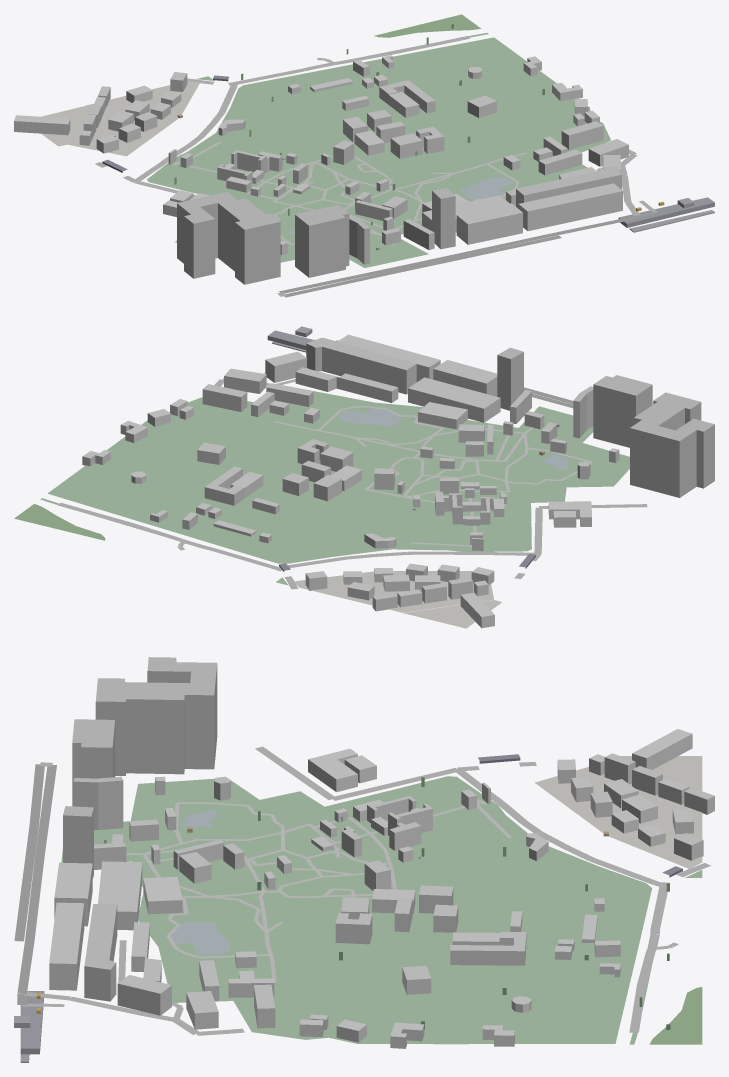
3 renders of one model, top to bottom at view 1: azimuth 30°, elevation 25°; view 2: azimuth 150°, elevation 25°; view 3: azimuth 270°, elevation 25°, orthographic. The views are drawn at different scales.
Size of the model in its own units: 548 by 76.32 by 514.
